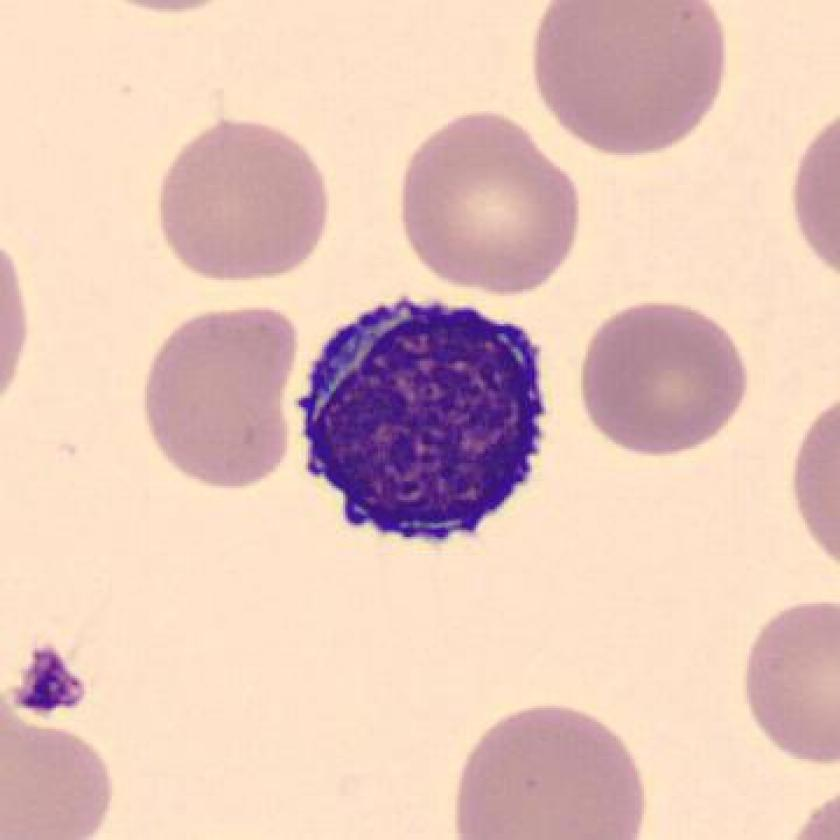lymphocyte: (279, 281, 563, 563)
